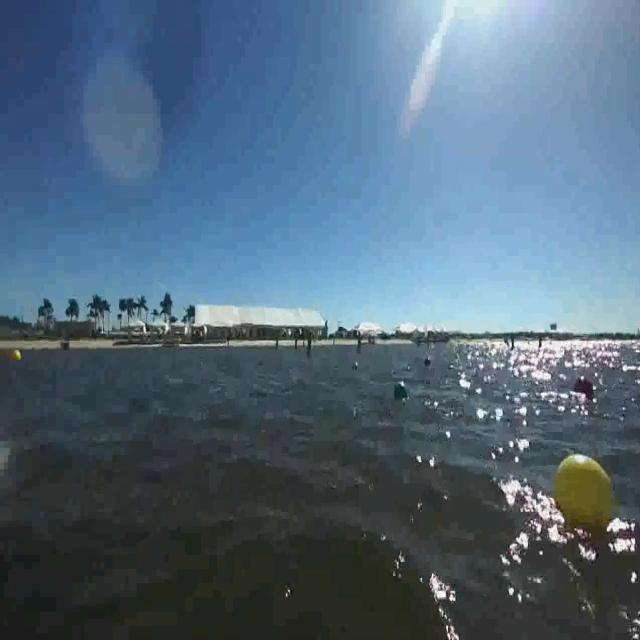yellow-buoy: (550, 449, 618, 537)
